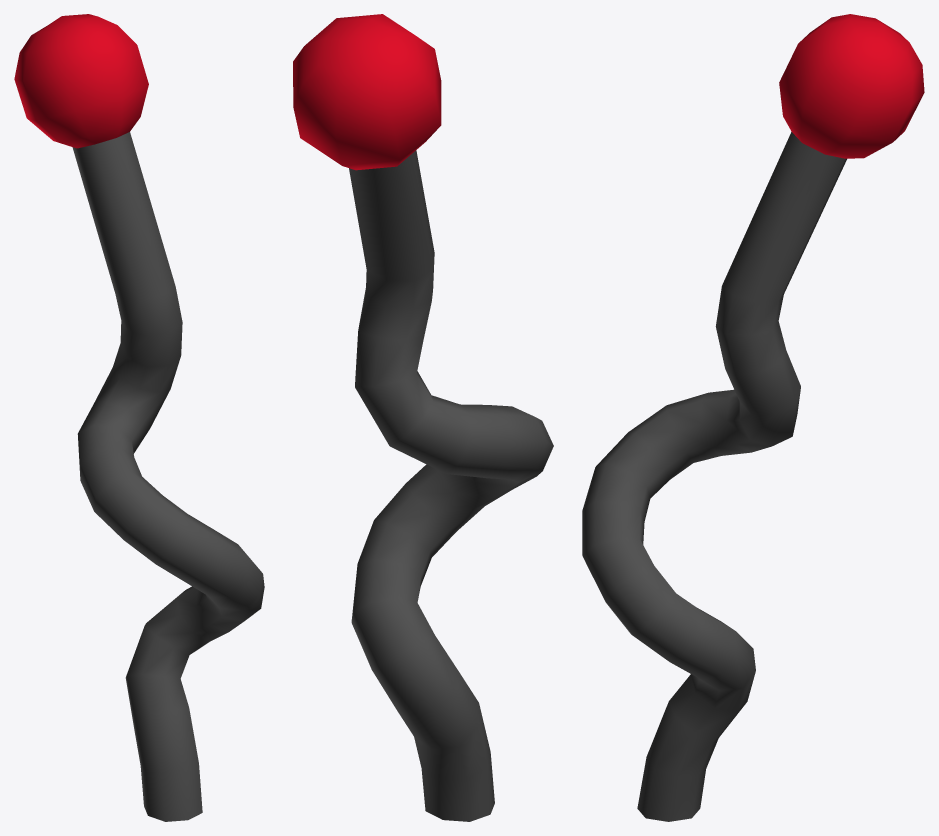
Rendered from m_Antenna01.fbx.
3 renders of one model, left to right at view 1: azimuth 30°, elevation 25°; view 2: azimuth 150°, elevation 25°; view 3: azimuth 270°, elevation 25°, orthographic. The views are drawn at different scales.
Visible parts, largest first — view 1: m_Antenna01; view 2: m_Antenna01; view 3: m_Antenna01.
Part boxes in pixels (x1,y1,x2,y2): m_Antenna01: [14, 14, 264, 821]; m_Antenna01: [293, 14, 553, 821]; m_Antenna01: [582, 14, 924, 821].
Size of the model in its own units: 1.27 by 5.67 by 2.24.
